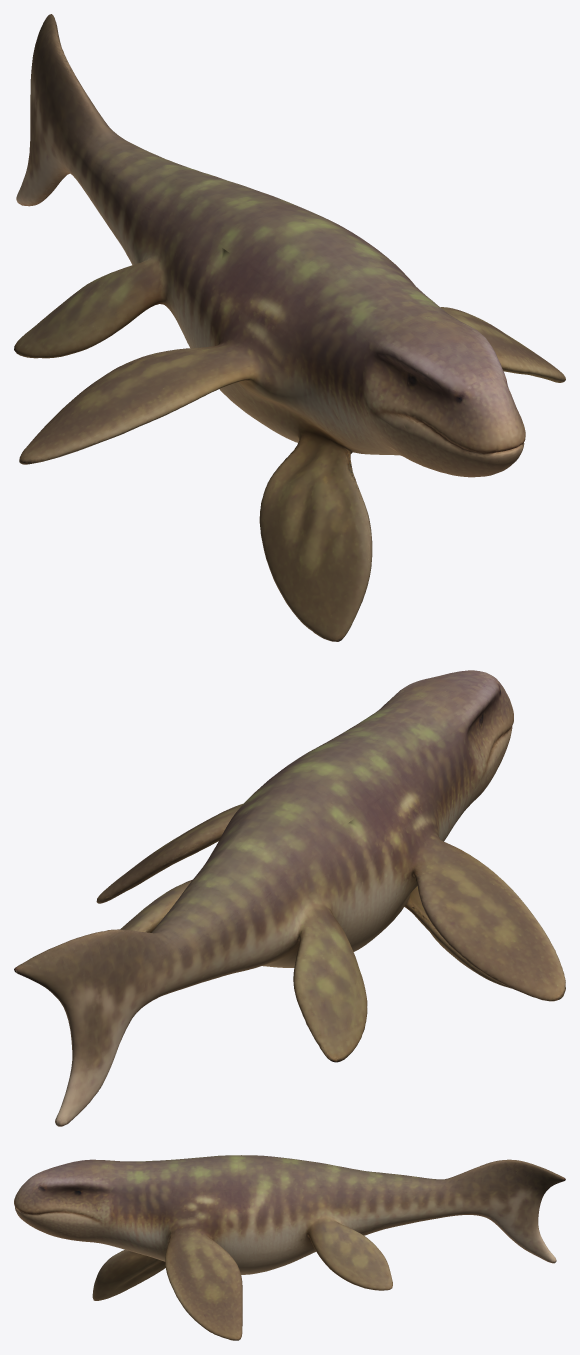
3 views of the same model, one above another, from view 1: azimuth 30°, elevation 25°; view 2: azimuth 150°, elevation 25°; view 3: azimuth 270°, elevation 25° (orthographic). The views are drawn at different scales.
Parts seen in each view (by area): view 1: world; view 2: world; view 3: world.
Boxes of the visible parts, bbox=[...] form: world: bbox=[14, 14, 565, 641]; world: bbox=[14, 670, 565, 1126]; world: bbox=[14, 1155, 565, 1340].
Size of the model in its own units: 3.63 by 2.01 by 6.
1 material, 1 textured.
